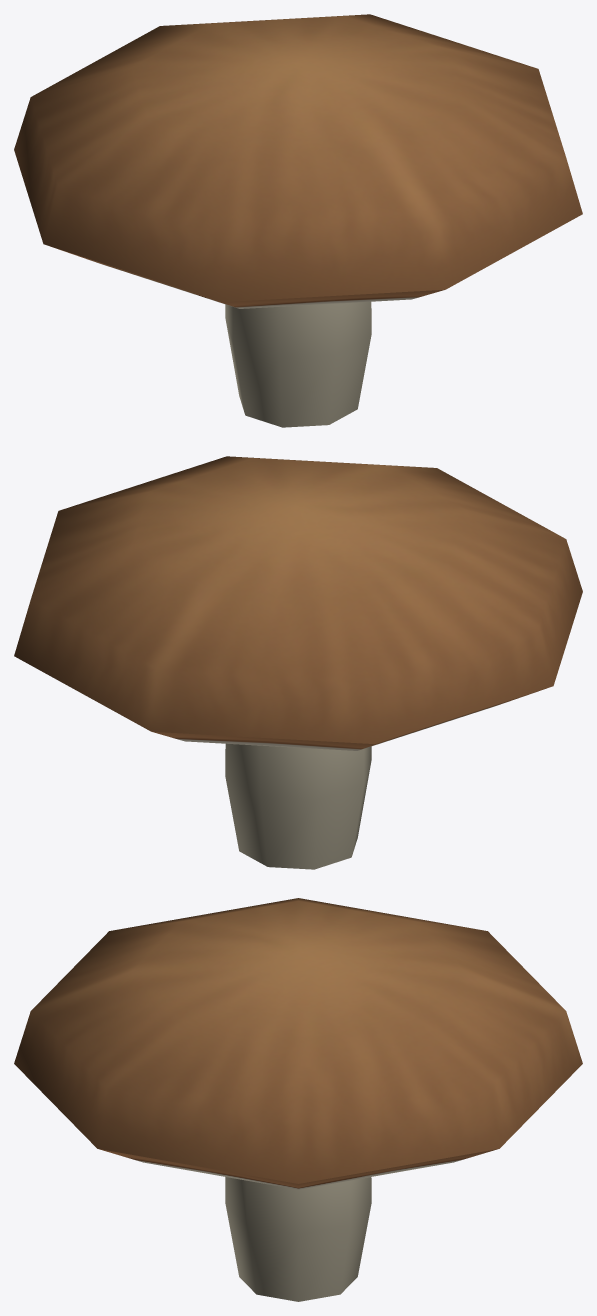
Rendered from Mushroom #2.fbx.
The picture shows the model from 3 angles, top to bottom: view 1: azimuth 30°, elevation 25°; view 2: azimuth 150°, elevation 25°; view 3: azimuth 270°, elevation 25°; orthographic projection. The views are drawn at different scales.
Parts seen in each view (by area): view 1: Mushroom #2; view 2: Mushroom #2; view 3: Mushroom #2.
Part boxes in pixels (x1,y1,x2,y2): Mushroom #2: [14, 14, 582, 427]; Mushroom #2: [14, 456, 582, 869]; Mushroom #2: [14, 898, 582, 1301].
Size of the model in its own units: 36.97 by 23.39 by 36.97.
1 material, 1 textured.
